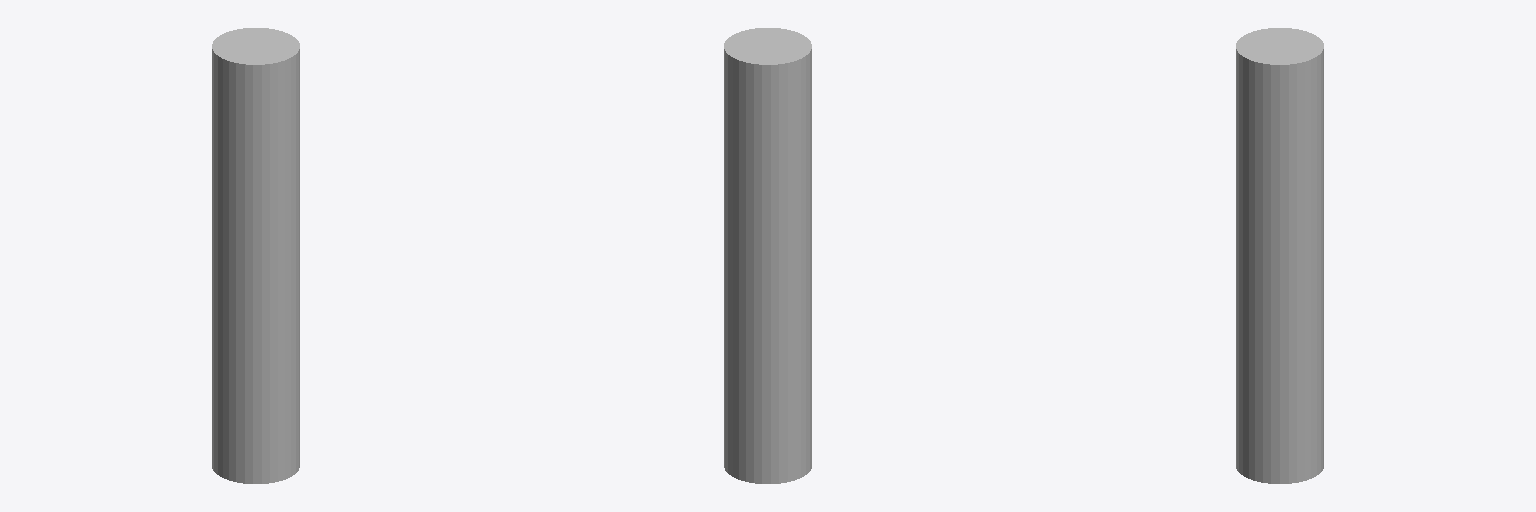
Rendered from debug_pole.obj.
3 views of the same model, side by side, from view 1: azimuth 30°, elevation 25°; view 2: azimuth 150°, elevation 25°; view 3: azimuth 270°, elevation 25° (orthographic).
Parts seen in each view (by area): view 1: Cylinder; view 2: Cylinder; view 3: Cylinder.
Part boxes in pixels (left/top/right/bottom): Cylinder: left=212, top=28, right=299, bottom=483; Cylinder: left=724, top=28, right=811, bottom=483; Cylinder: left=1236, top=28, right=1323, bottom=483.
Bounding box in the file's own units: 4 × 20.93 × 4.